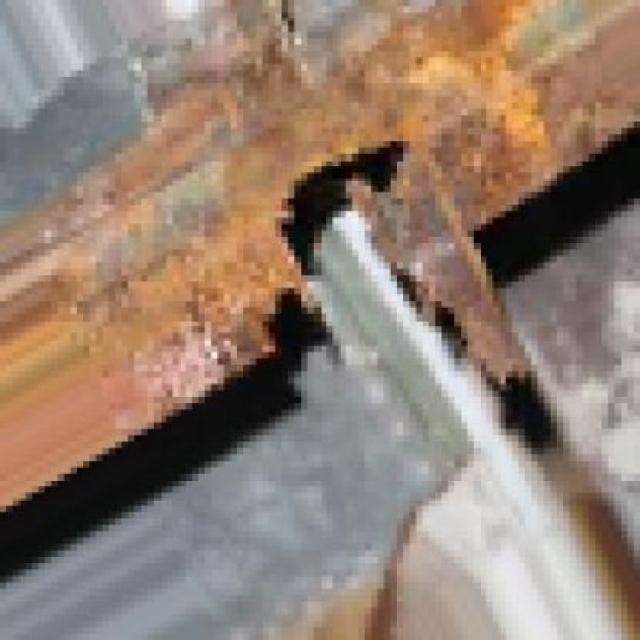defective: (23, 0, 603, 526)
